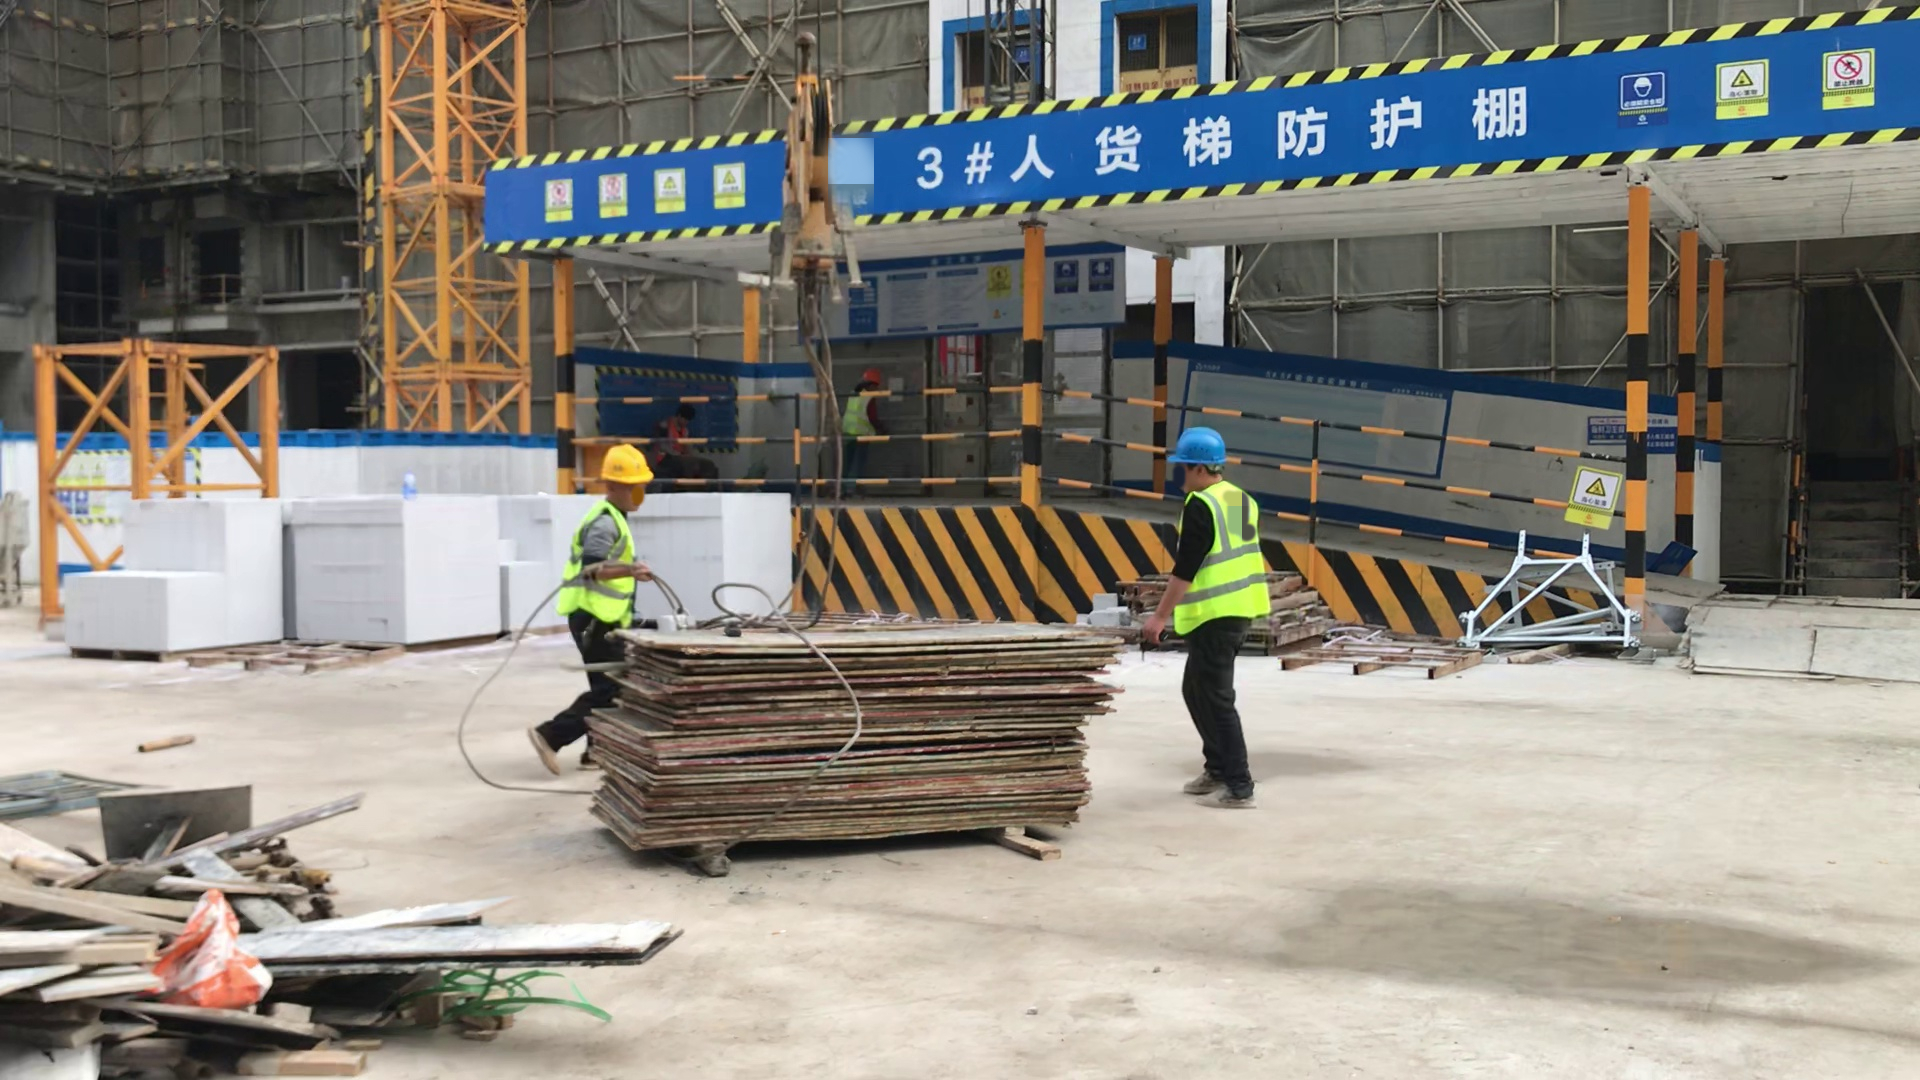board: (594, 622, 1119, 849)
brick: (61, 491, 563, 663), (635, 493, 791, 615)
handcart: (1, 771, 162, 815)
helmet: (1166, 426, 1228, 477), (597, 445, 661, 493), (857, 369, 883, 388)
hook: (774, 30, 856, 375)
person: (1149, 427, 1281, 815), (534, 444, 654, 768), (840, 368, 884, 499), (657, 400, 724, 483)
slogan: (913, 85, 1535, 197), (1611, 40, 1888, 131), (543, 160, 747, 222), (1557, 460, 1621, 538)
vest: (1181, 488, 1272, 632), (569, 502, 634, 626), (841, 394, 876, 438), (660, 418, 694, 457)
